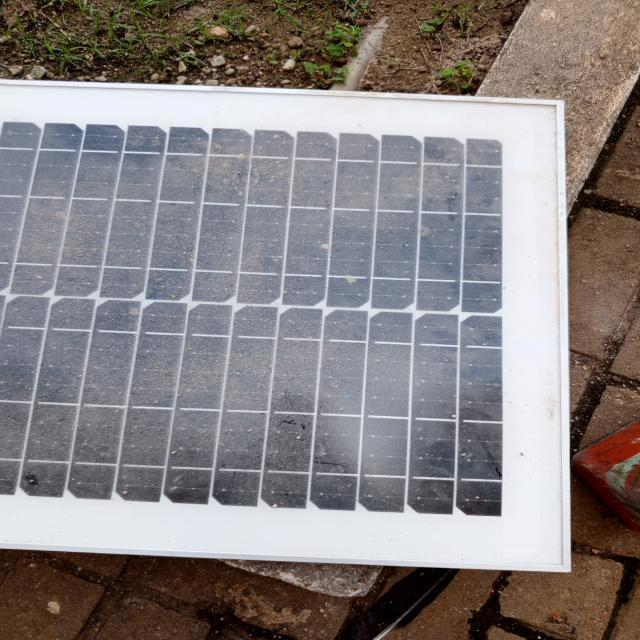Surface Contaminant: (14, 112, 498, 512)
